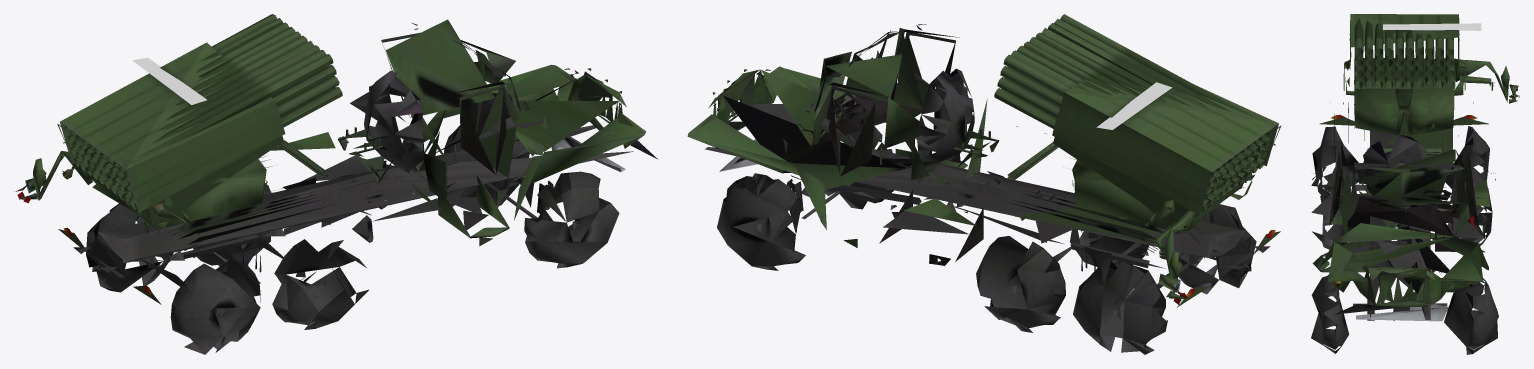
File: grad_lo.glb
The picture shows the model from 3 angles, left to right: view 1: azimuth 30°, elevation 25°; view 2: azimuth 150°, elevation 25°; view 3: azimuth 270°, elevation 25°; orthographic projection. The views are drawn at different scales.
Parts seen in each view (by area): view 1: g_grad_hull, g_grad_turret; view 2: g_grad_hull, g_grad_turret; view 3: g_grad_hull, g_grad_turret.
Boxes of the visible parts, x1,y1,x2,y2 form: g_grad_hull: (58, 19, 657, 354); g_grad_turret: (14, 14, 342, 232); g_grad_hull: (687, 24, 1280, 354); g_grad_turret: (994, 14, 1281, 304); g_grad_hull: (1311, 102, 1498, 354); g_grad_turret: (1343, 14, 1519, 135).
Size of the model in its own units: 7.3 by 3.38 by 3.03.
Materials: 3 (2 with a texture image).
